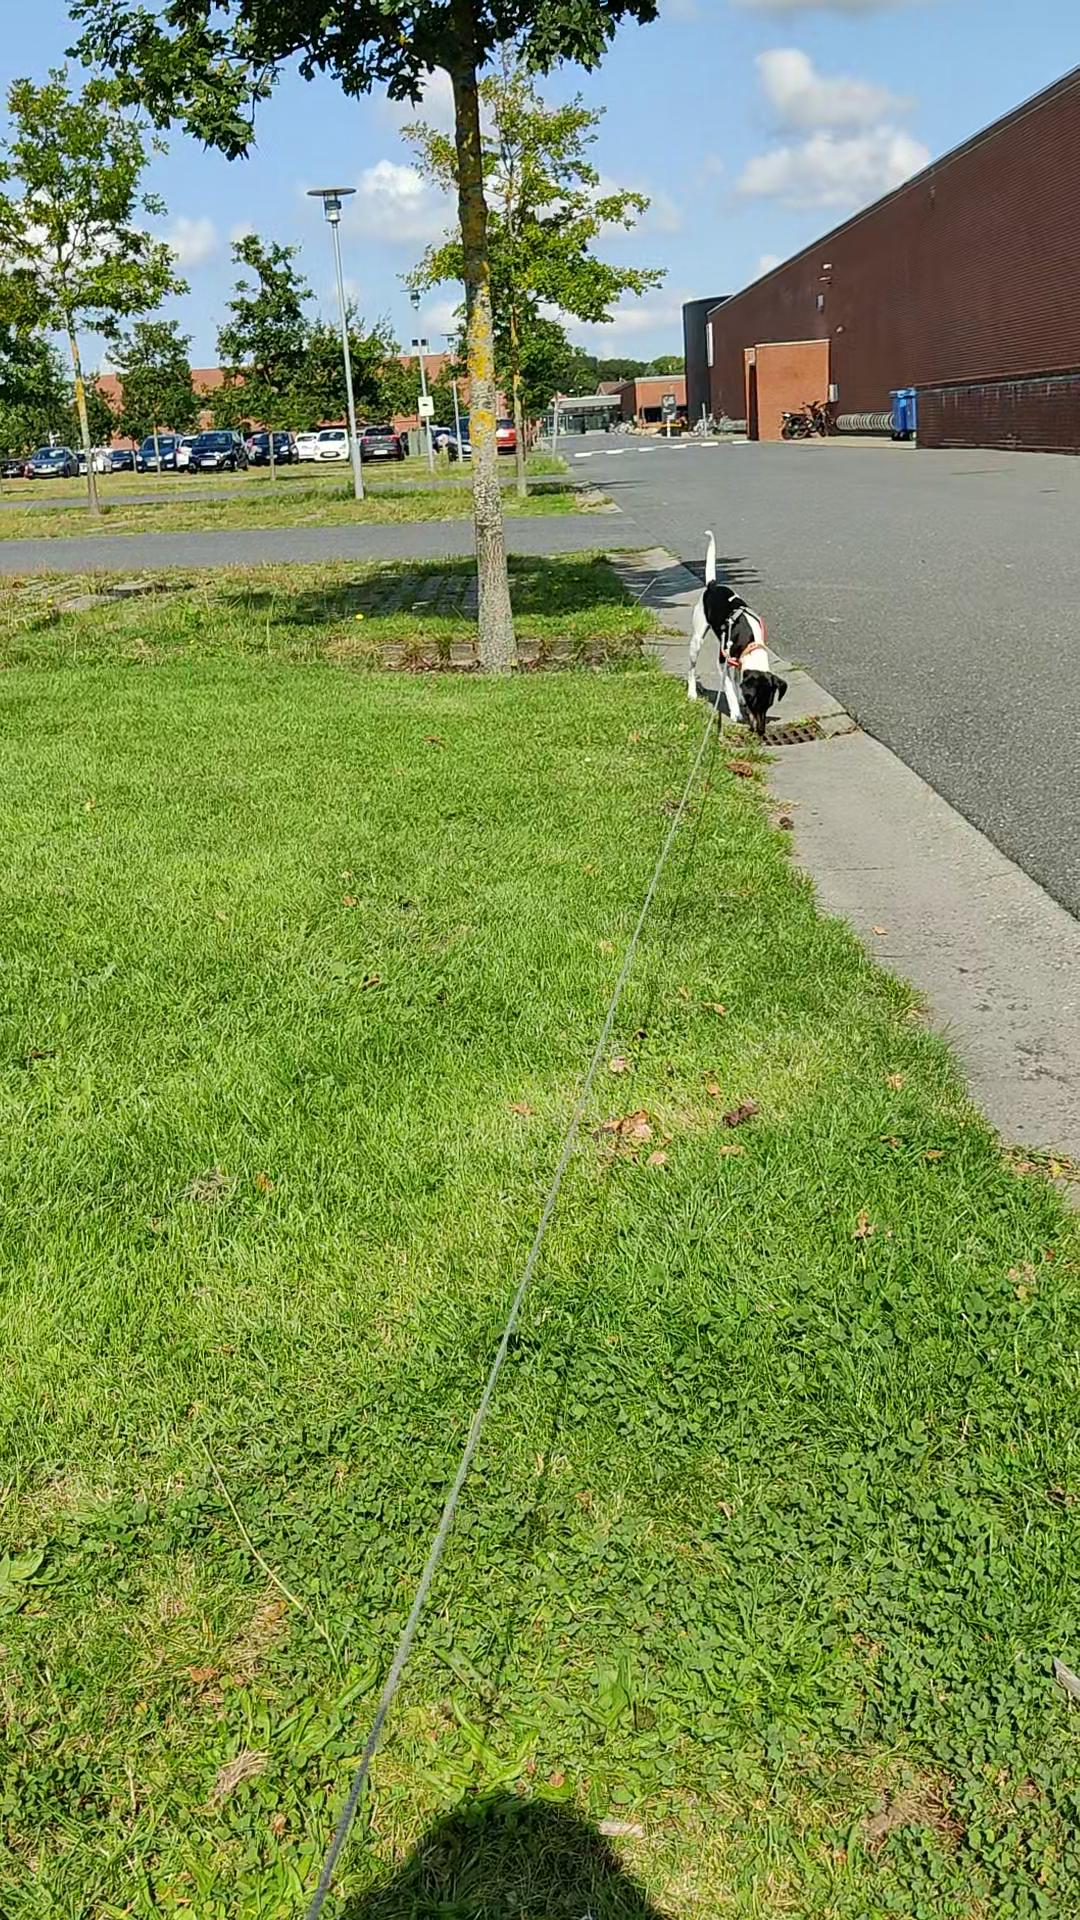Dog: (678, 522, 793, 737)
